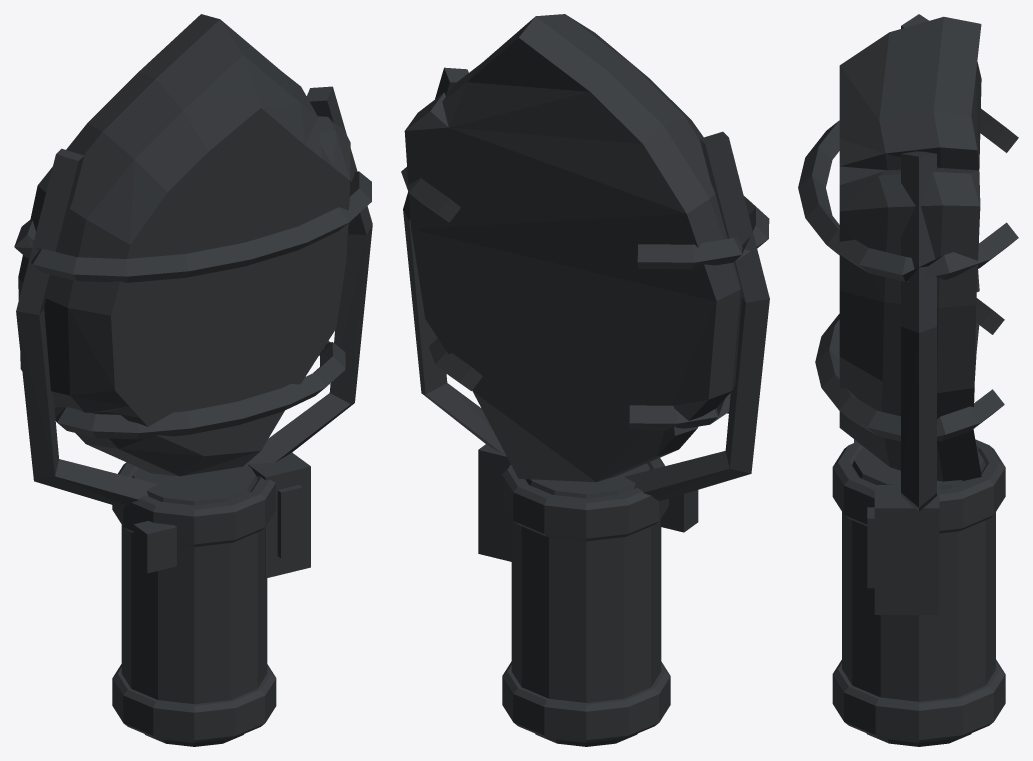
Rendered from KEEPSTONE_TOOL.shadow.glb.
3 renders of one model, left to right at view 1: azimuth 30°, elevation 25°; view 2: azimuth 150°, elevation 25°; view 3: azimuth 270°, elevation 25°, orthographic. The views are drawn at different scales.
Parts seen in each view (by area): view 1: Body_Mesh; view 2: Body_Mesh; view 3: Body_Mesh.
Boxes of the visible parts, <box> form: Body_Mesh: <box>14,14,372,746</box>; Body_Mesh: <box>401,14,769,746</box>; Body_Mesh: <box>798,14,1018,746</box>.
Size of the model in its own units: 0.181 by 0.3324 by 0.0919.
1 material, 1 textured.
